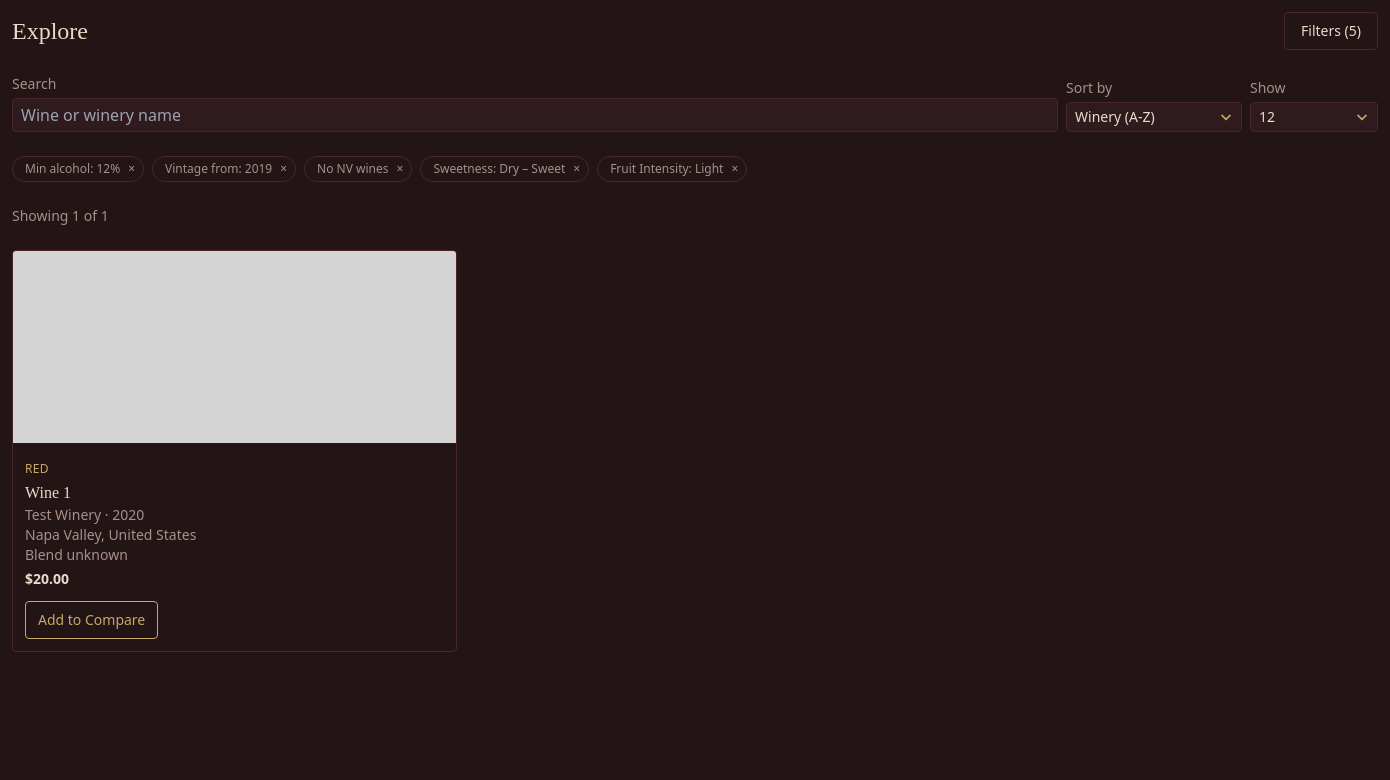
ExplorePage scroll position › shows chips for alcohol, vintage, NV and taste filters and sends them to the API
Check: the link "Wine 1" is shown, box x1=25 y1=484 x2=71 y2=501
Check: the text "Sweetness: Dry – Sweet" is shown, box x1=433 y1=160 x2=565 y2=177
Click the button named "Remove sweetness filter": x=577, y=169 x1=569 y1=161 x2=584 y2=177
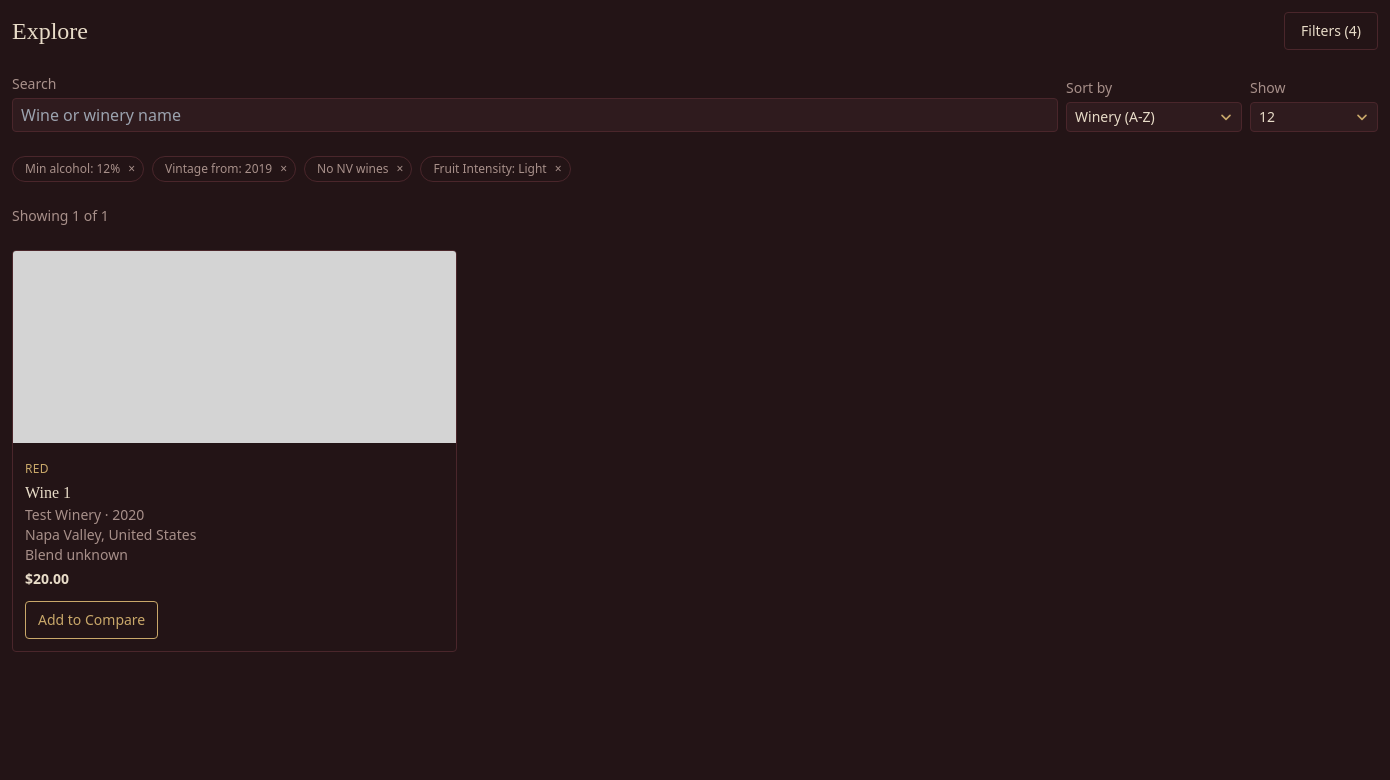
Check: the text "Sweetness: Dry – Sweet" is gone
